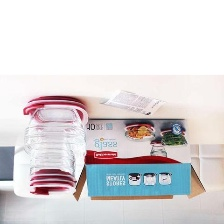book: (68, 114, 210, 208)
plastic_box: (19, 104, 89, 200)
